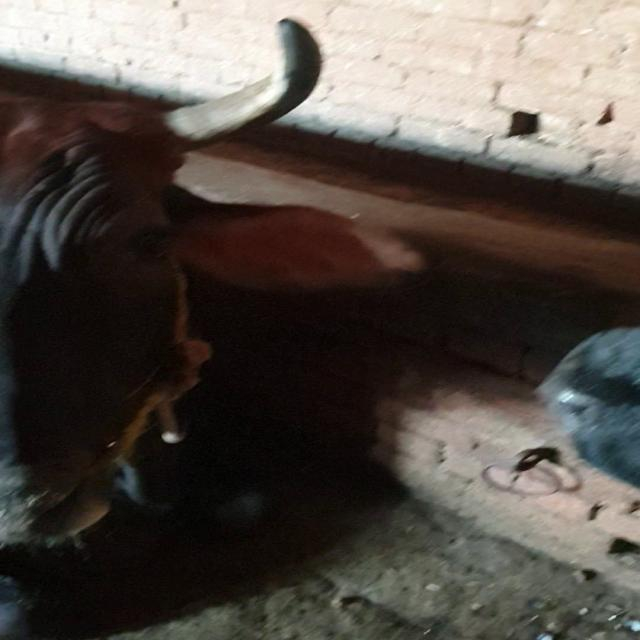cowFace: (0, 71, 218, 547)
